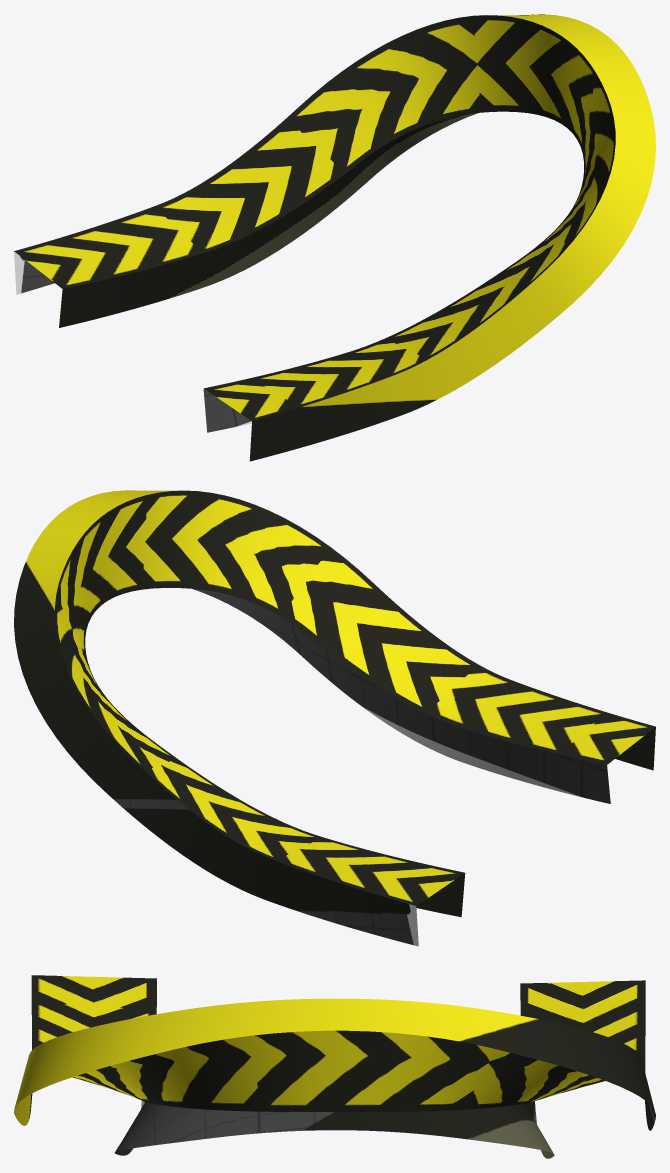
Rendered from ramp2.fbx.
3 views of the same model, one above another, from view 1: azimuth 30°, elevation 25°; view 2: azimuth 150°, elevation 25°; view 3: azimuth 270°, elevation 25° (orthographic). The views are drawn at different scales.
Parts seen in each view (by area): view 1: NurbsPath; view 2: NurbsPath; view 3: NurbsPath.
Part boxes in pixels (x1,y1,x2,y2): NurbsPath: (14,14,655,461); NurbsPath: (14,490,655,946); NurbsPath: (14,975,655,1158).
Bounding box in the file's own units: 1118 × 547 × 1024.
